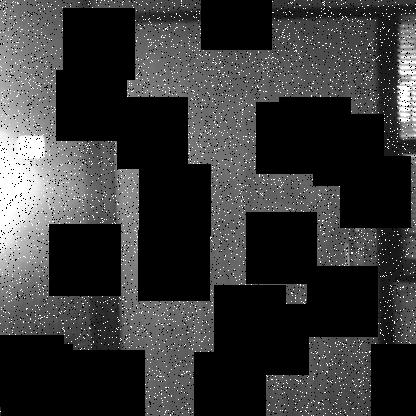Porte: (105, 17, 382, 415)
